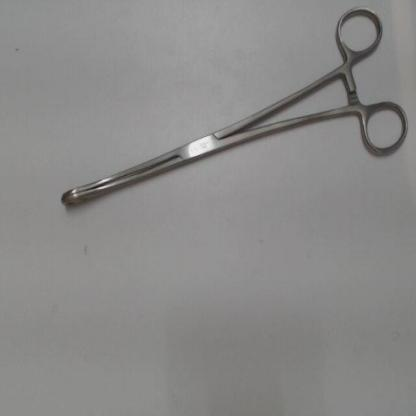Sponge Forceps: (51, 1, 413, 217)
